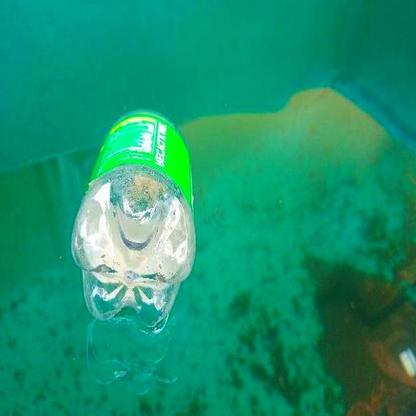plastic bottle: (71, 109, 196, 327)
